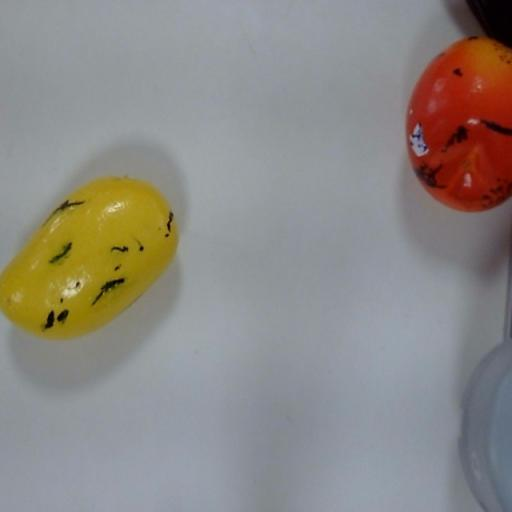Defective: (2, 167, 234, 344), (401, 31, 512, 241)
